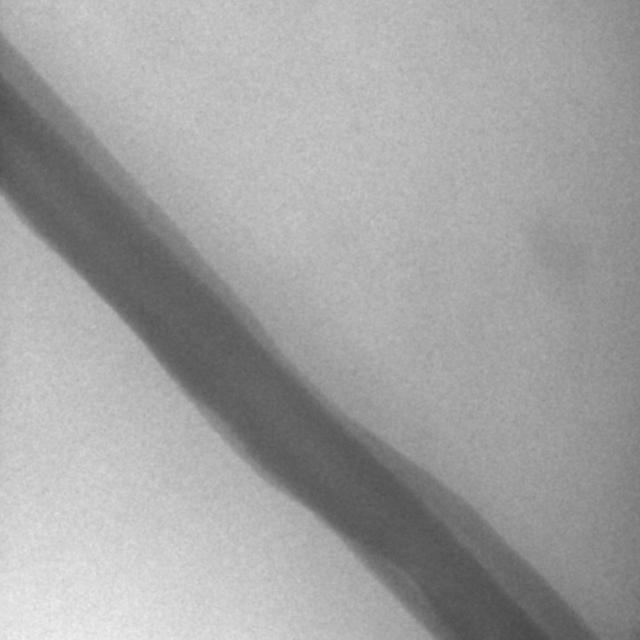unfused: (377, 552, 434, 609)
